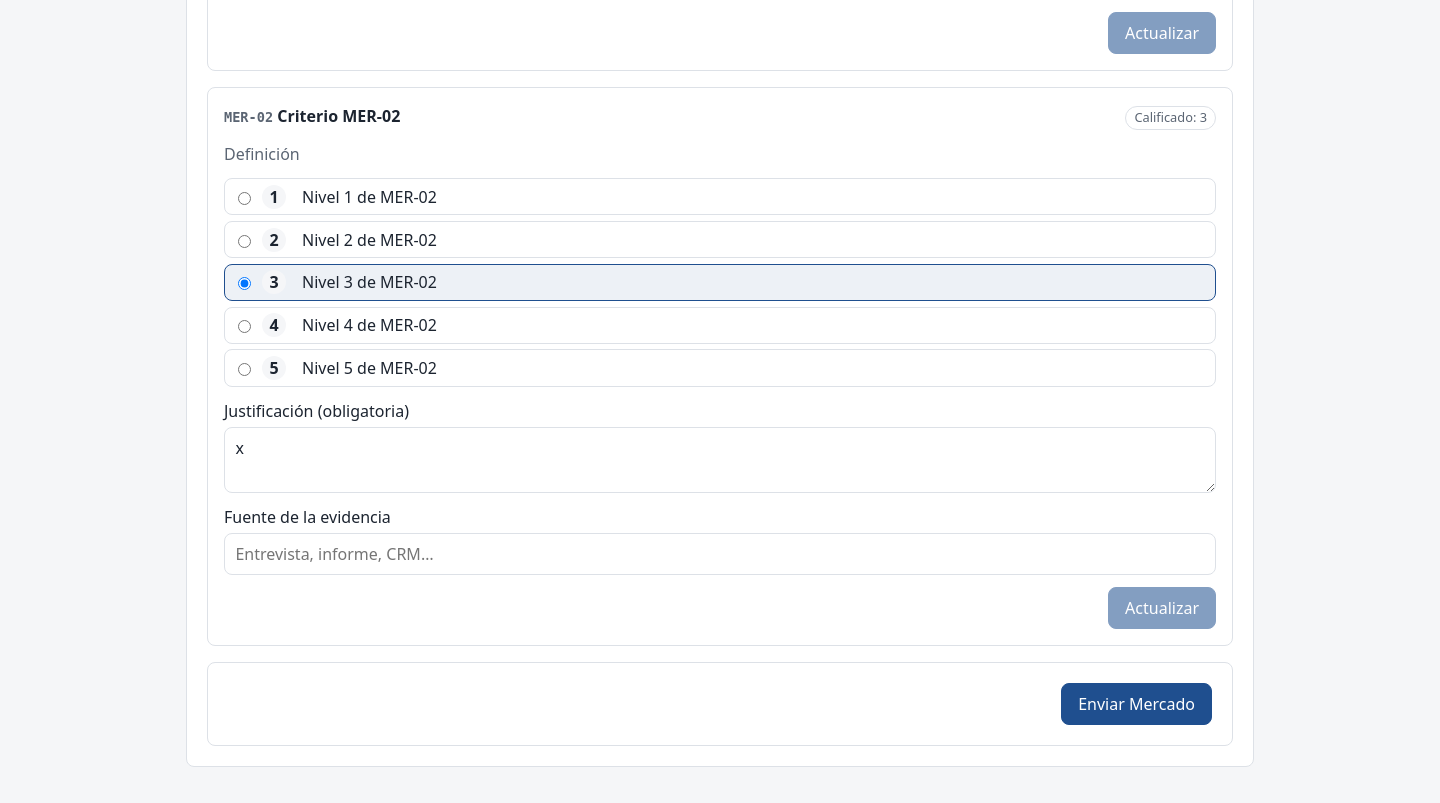
Test: enviar la dimensión pide confirmación
The width and height of the screenshot is (1440, 803).
(page scrolled)
Click the button "Enviar Mercado": (1137, 704) [1061, 683, 1212, 725]
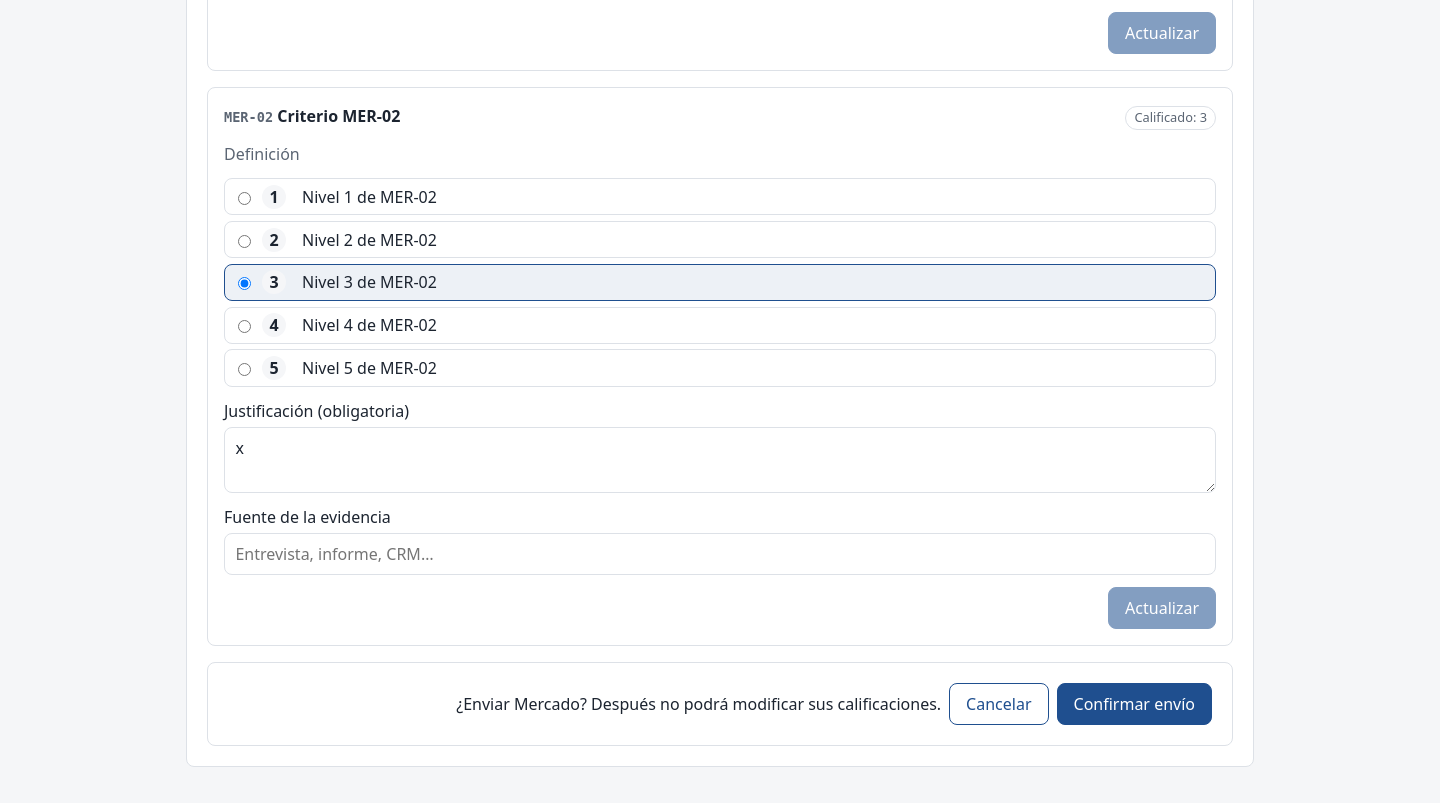
Click the button "Confirmar envío": (1134, 704) [1056, 683, 1212, 725]
(page scrolled)
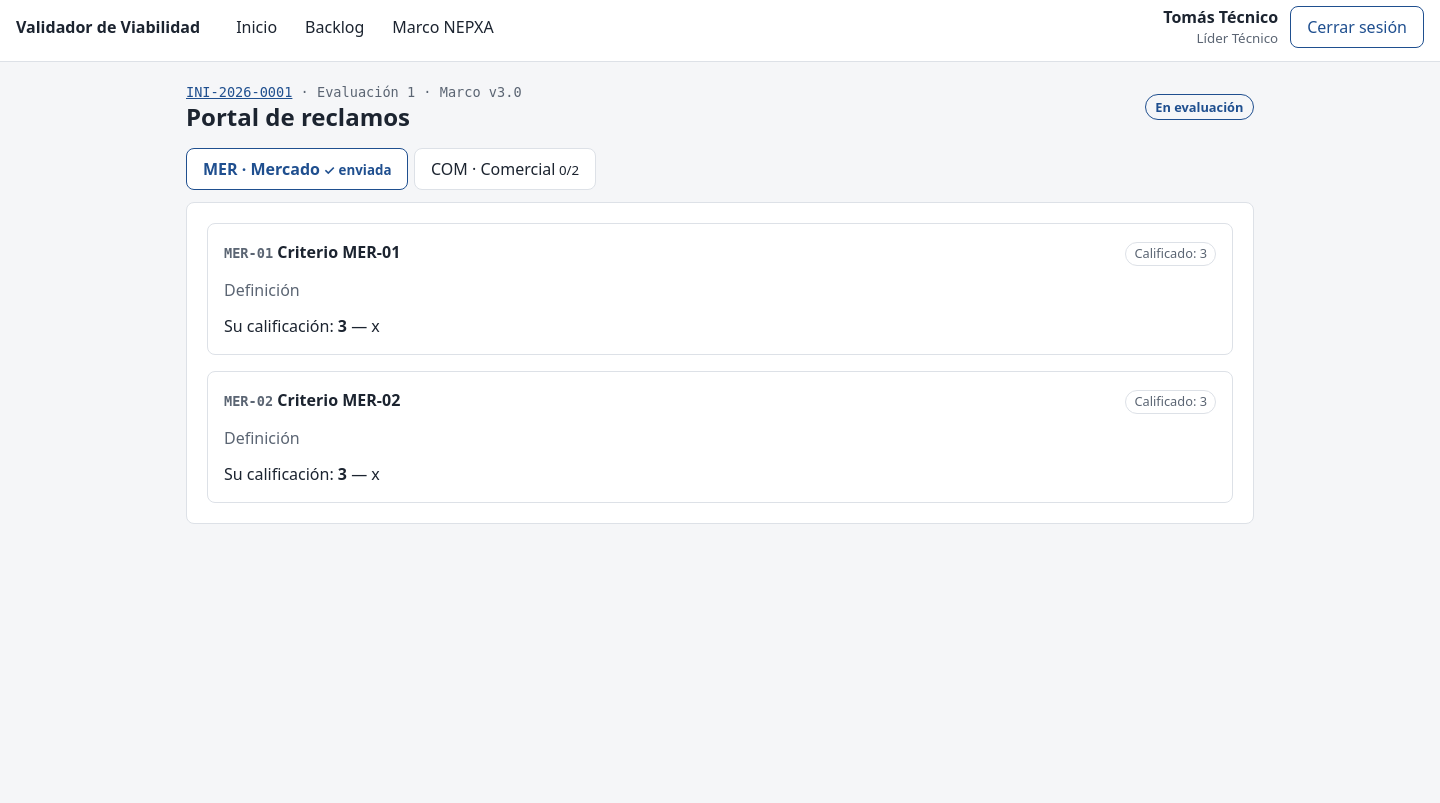
Now the text "Su calificación:" is shown 2 times, box [224, 315, 380, 337]; [224, 463, 380, 485]
